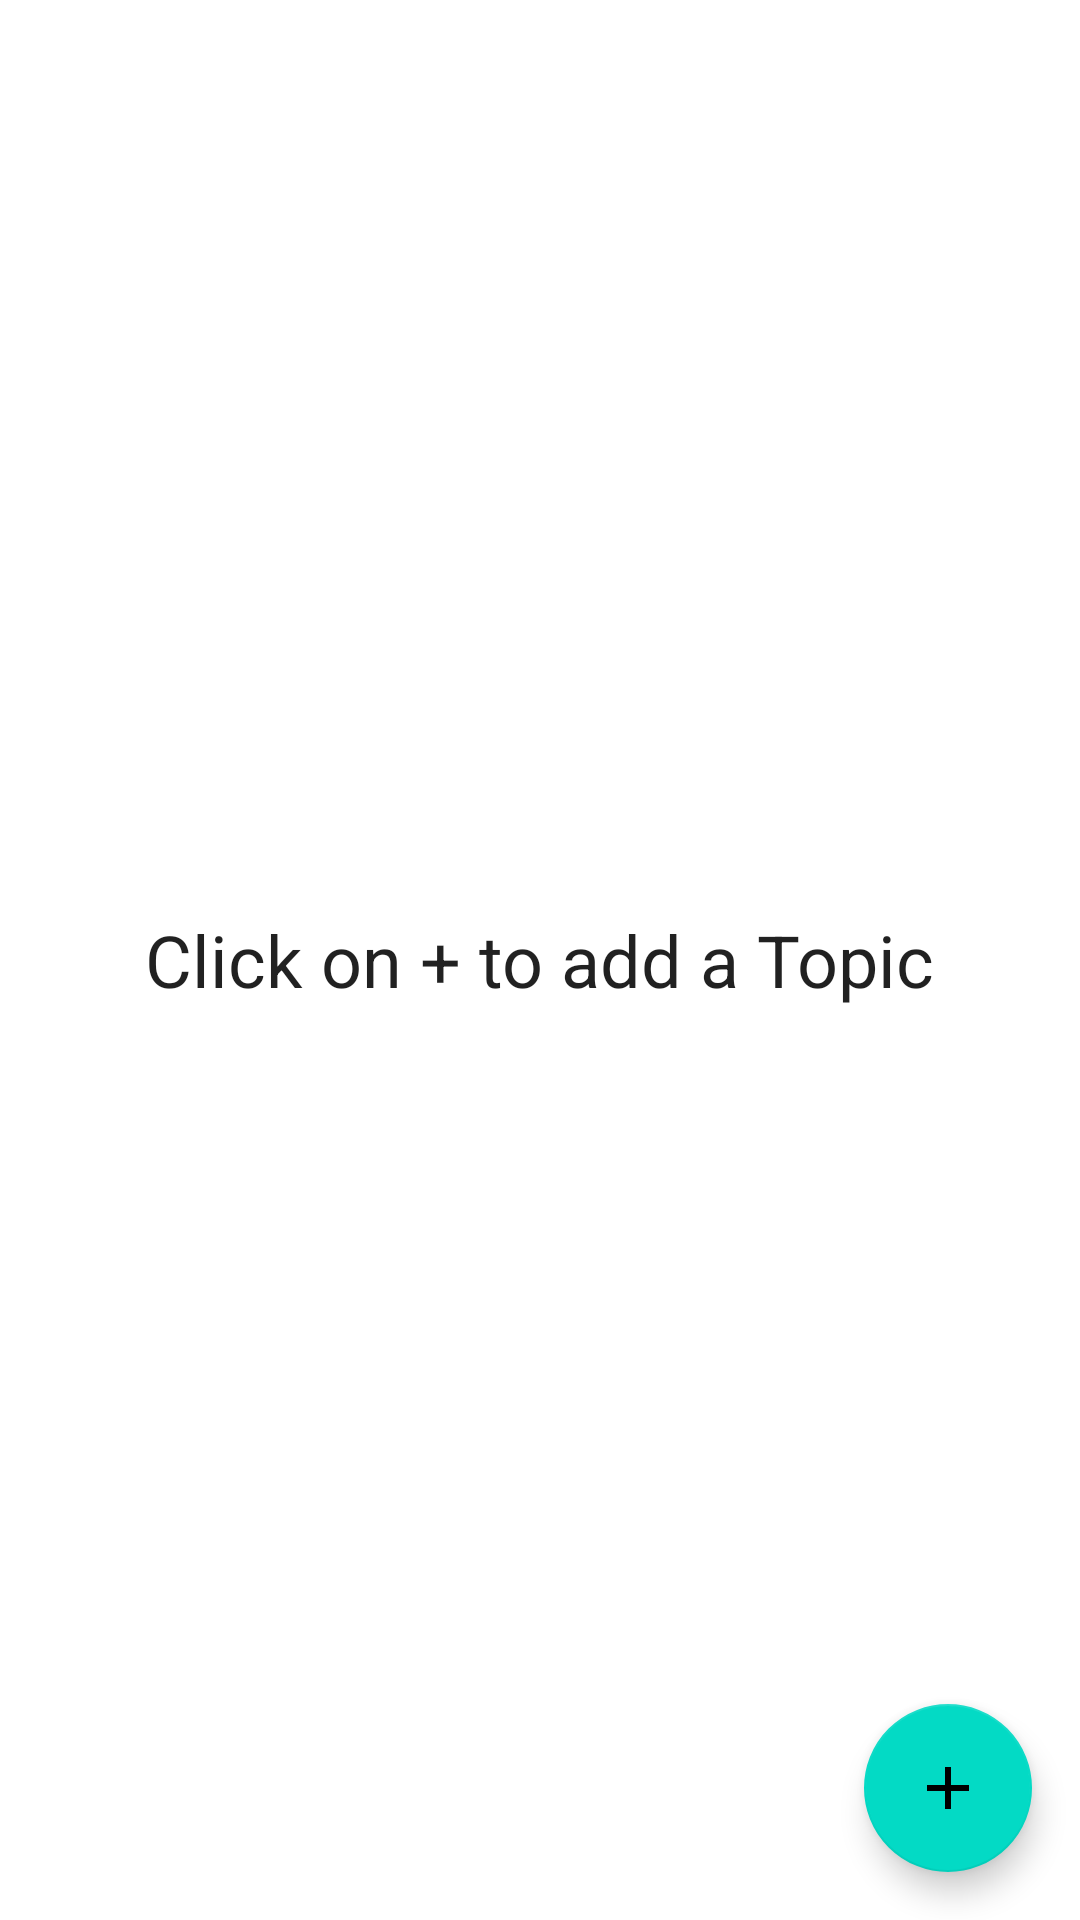

Screen size 1080 × 1920. Icon name, then its center in pixels as [x,y]:
Add Topic For Review: [948,1788]
